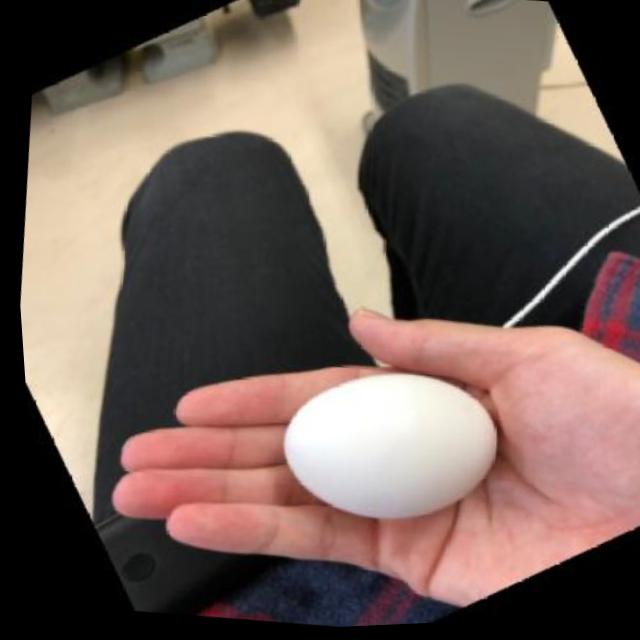egg: (262, 358, 504, 541)
